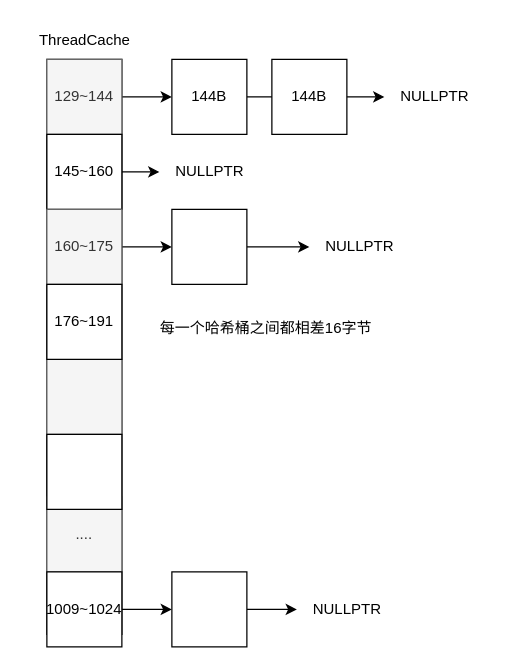
Some shapes in this 505 by 669 pixel diagram are drawn without their labels. Each missing label, with the centre of its shape:
1024B: point (209, 609)
175B: point (209, 246)
